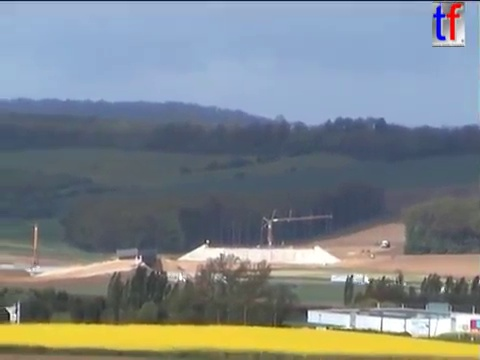crane: (256, 207, 334, 249), (26, 221, 47, 277)
